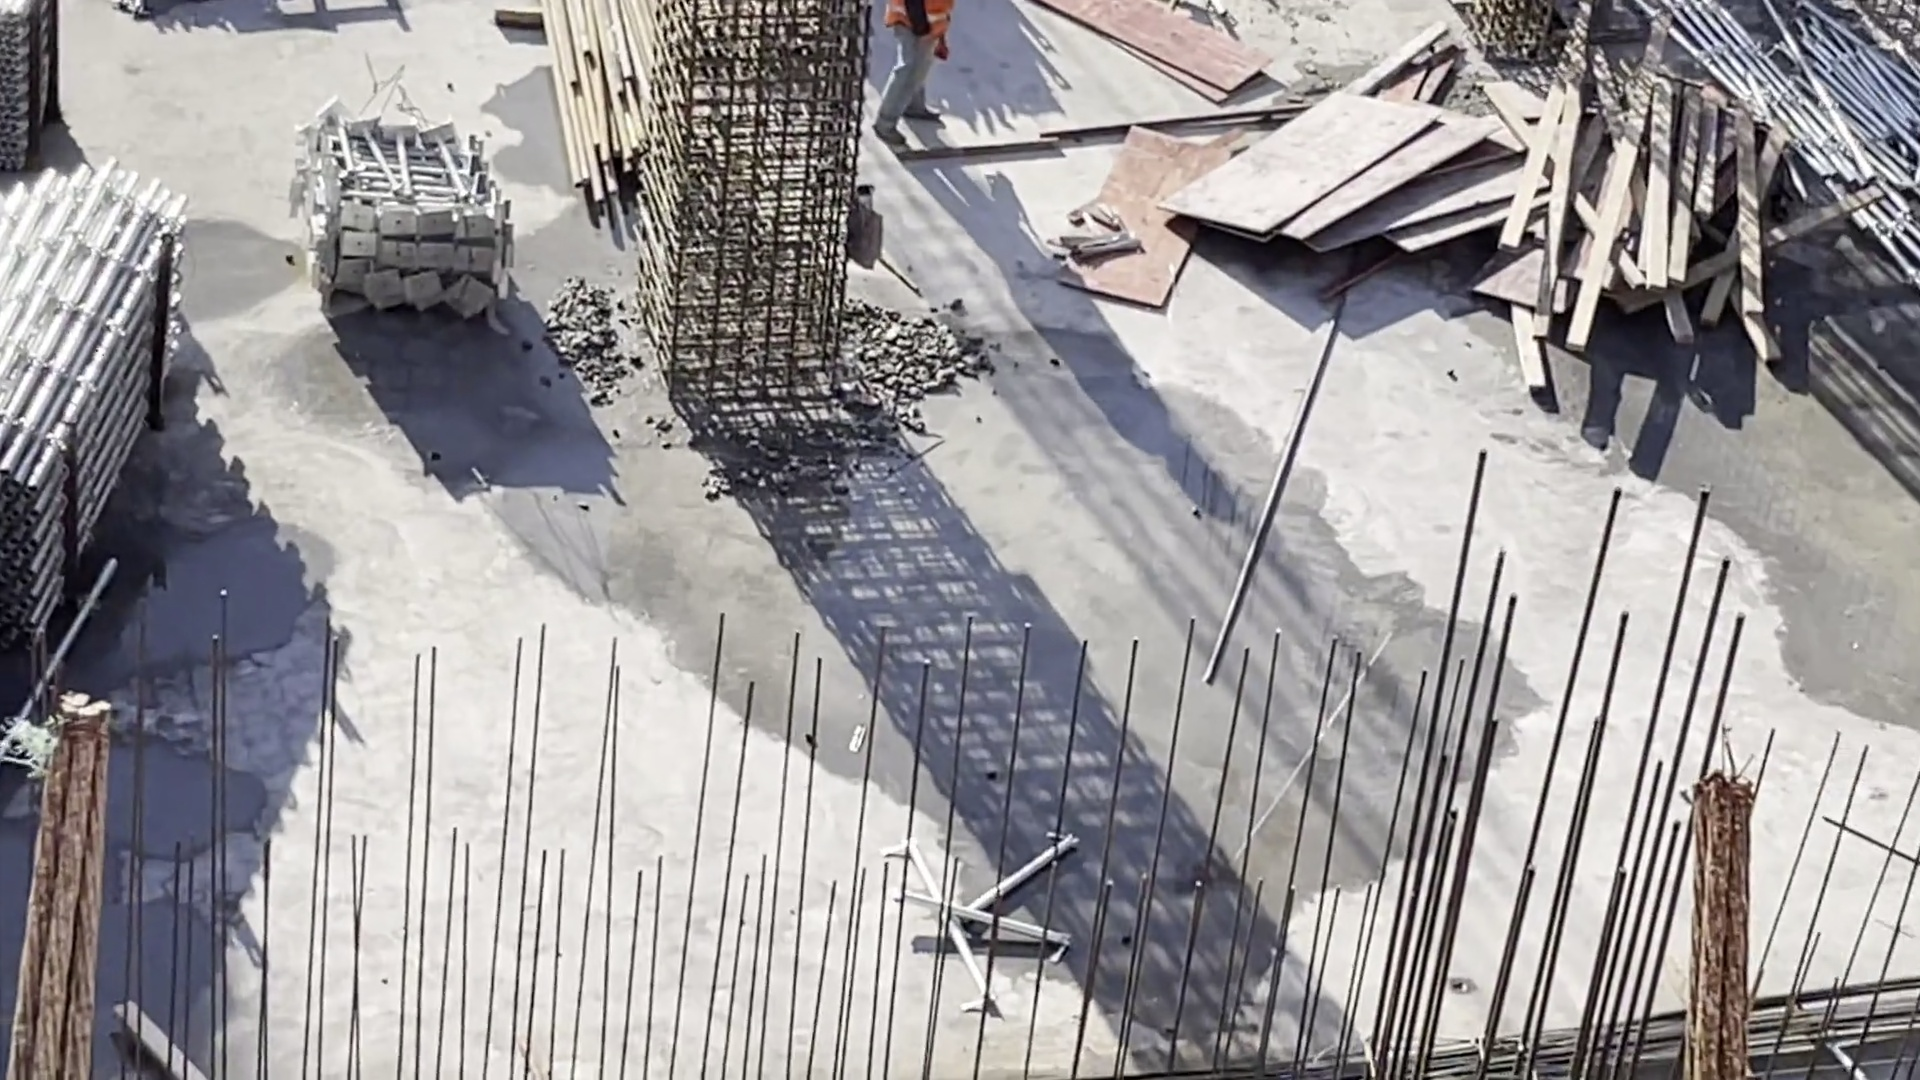board: (1176, 92, 1505, 268)
person: (866, 1, 963, 149)
scaffold: (1, 154, 200, 685), (280, 108, 497, 327)
vest: (880, 1, 958, 53)
wood: (1519, 47, 1799, 336)
